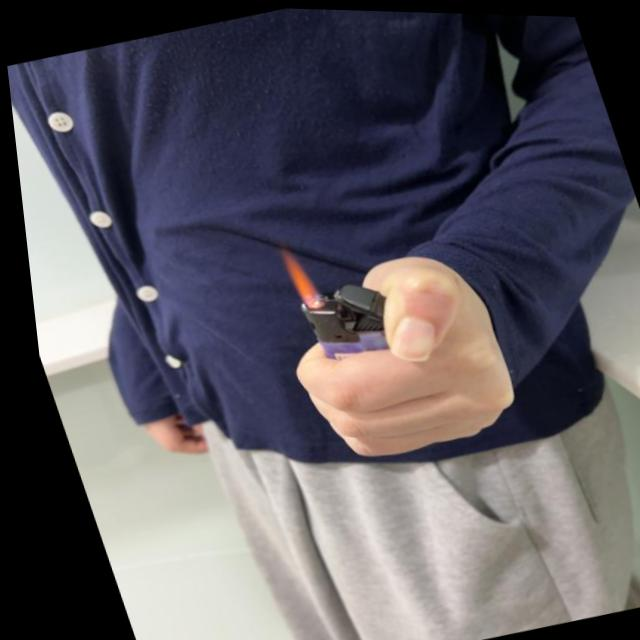Fire: (270, 234, 321, 311)
